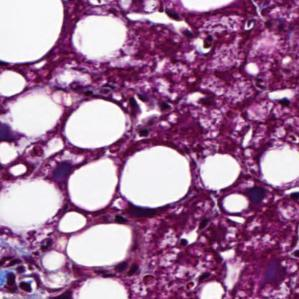inflammation: (120, 94, 174, 139), (0, 253, 44, 296)
